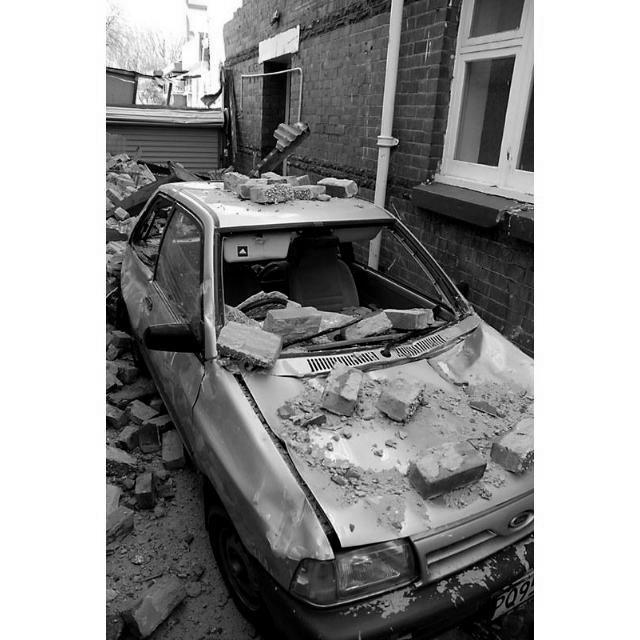bonnet-dent: (305, 353, 531, 540)
fender-dent: (194, 398, 293, 583)
front-bumper-dent: (286, 539, 530, 639)
